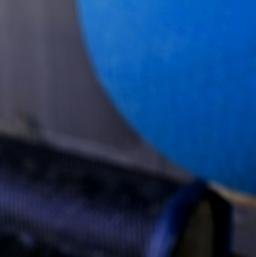algae: (72, 0, 256, 195)
